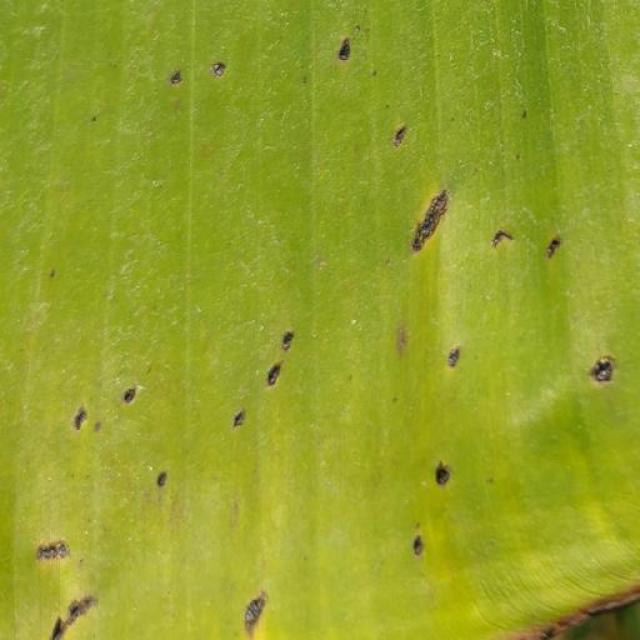Black_rot: (218, 313, 304, 432), (28, 532, 114, 638), (391, 458, 478, 558), (386, 174, 464, 268), (144, 46, 244, 112), (488, 210, 589, 274), (64, 373, 155, 439), (390, 321, 482, 382), (208, 589, 298, 639), (566, 342, 631, 405), (373, 111, 436, 169), (330, 33, 370, 83), (132, 464, 188, 494)
